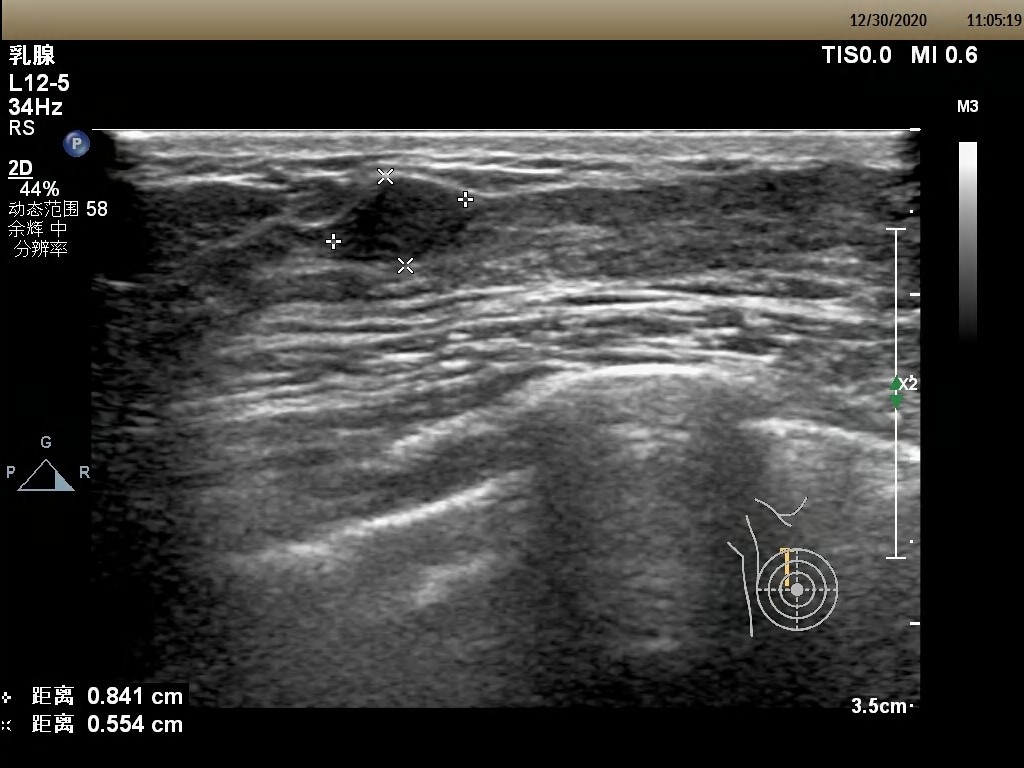肌瘤: (330, 177, 465, 265)
